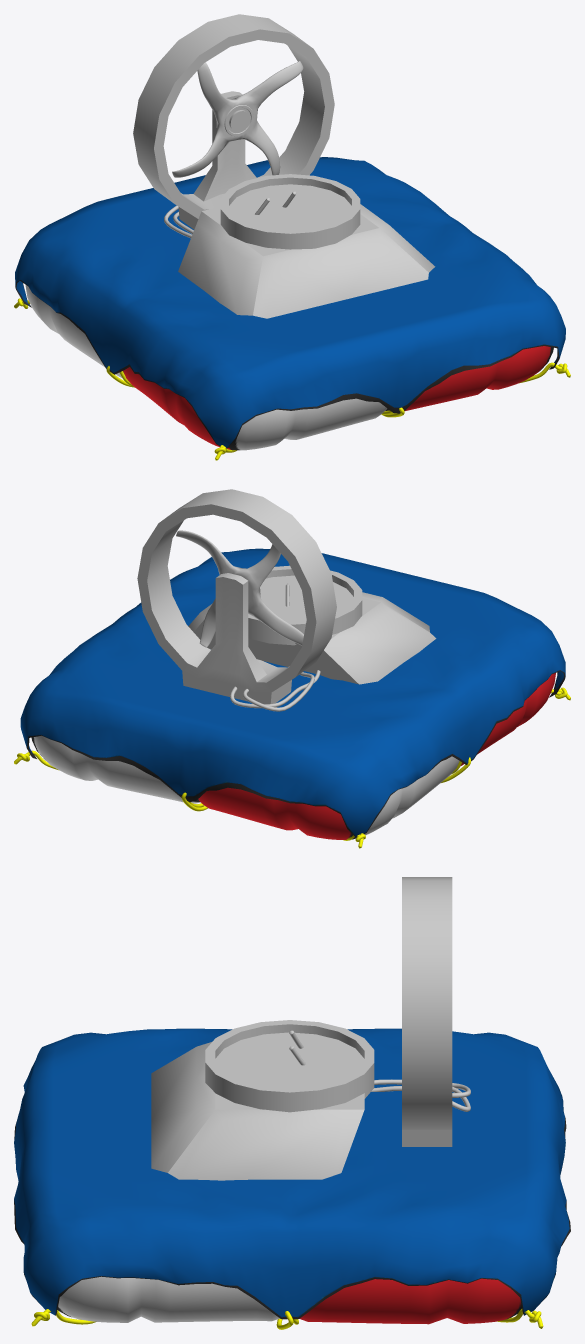
Rendered from HoverCraftLegs_FBX.FBX.
The picture shows the model from 3 angles, top to bottom: view 1: azimuth 30°, elevation 25°; view 2: azimuth 150°, elevation 25°; view 3: azimuth 270°, elevation 25°; orthographic projection. The views are drawn at different scales.
Parts seen in each view (by area): view 1: Trap, BaseCraft, Propeller; view 2: Trap, BaseCraft, Propeller; view 3: Trap, BaseCraft.
Part boxes in pixels (<box>): Trap: <box>14,157,570,460</box>; BaseCraft: <box>133,14,435,318</box>; Propeller: <box>172,61,303,177</box>; Trap: <box>14,548,570,848</box>; BaseCraft: <box>137,489,436,711</box>; Propeller: <box>176,530,303,647</box>; Trap: <box>14,1028,570,1329</box>; BaseCraft: <box>151,877,470,1180</box>.
Bounding box in the file's own units: 361 × 265 × 380.
